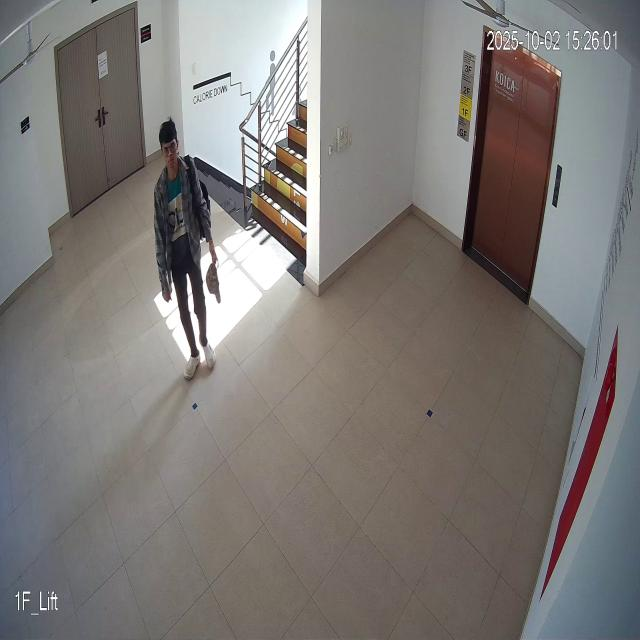face: (157, 118, 183, 172)
